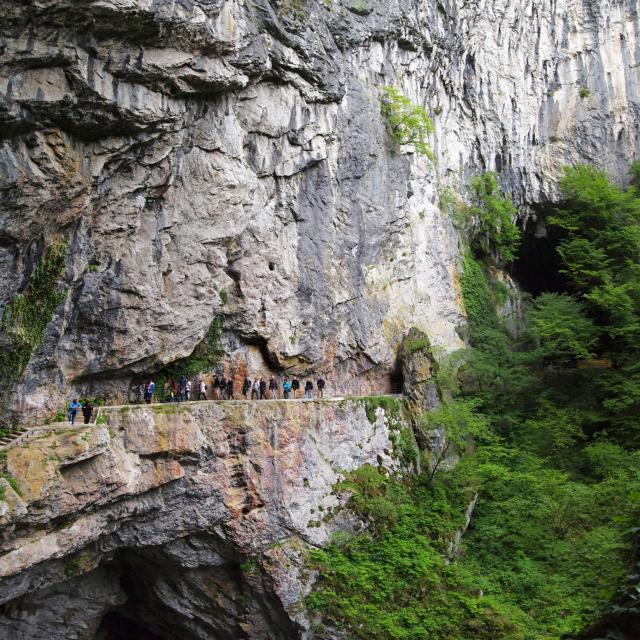body: (67, 398, 82, 426), (143, 378, 155, 404), (166, 379, 178, 404), (81, 400, 93, 424), (268, 374, 279, 400), (211, 374, 221, 402), (241, 374, 251, 402), (290, 375, 300, 400), (197, 379, 208, 401), (218, 377, 228, 401), (258, 378, 268, 400), (182, 378, 191, 402), (226, 376, 235, 400), (316, 377, 326, 398), (251, 377, 260, 400), (180, 375, 187, 402), (282, 378, 291, 399), (304, 378, 313, 399)
